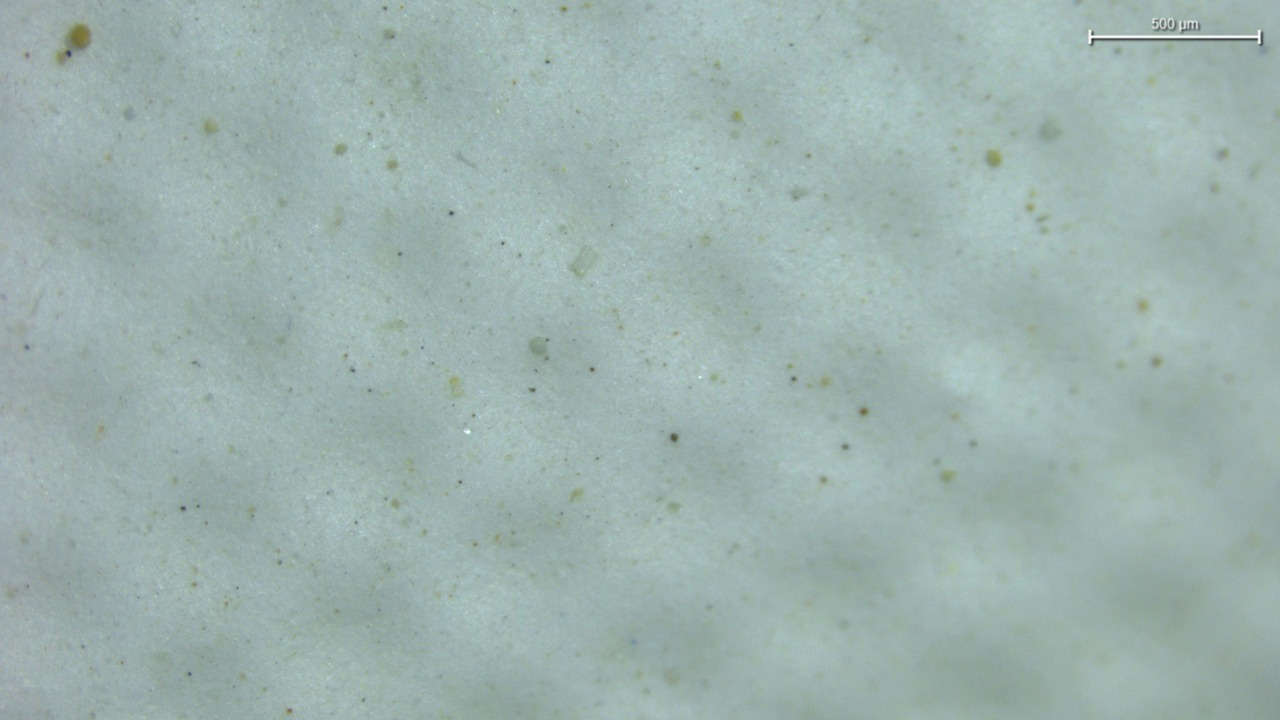microplastic_fragment: (568, 247, 596, 277)
